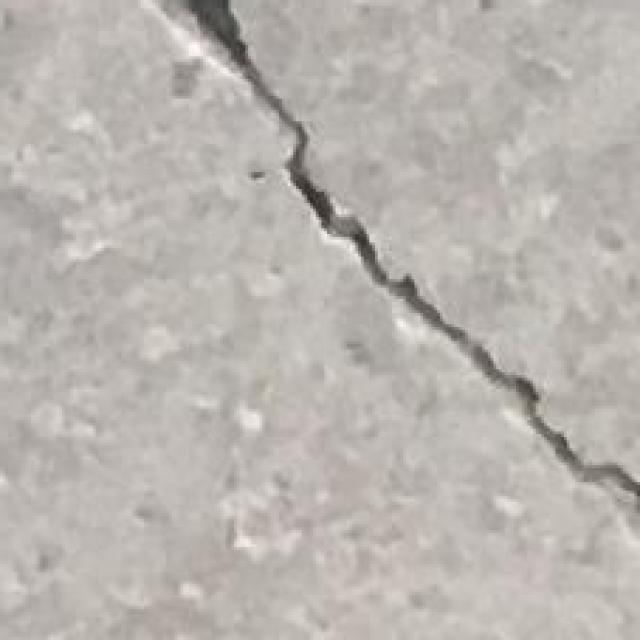crack: (149, 0, 638, 517)
